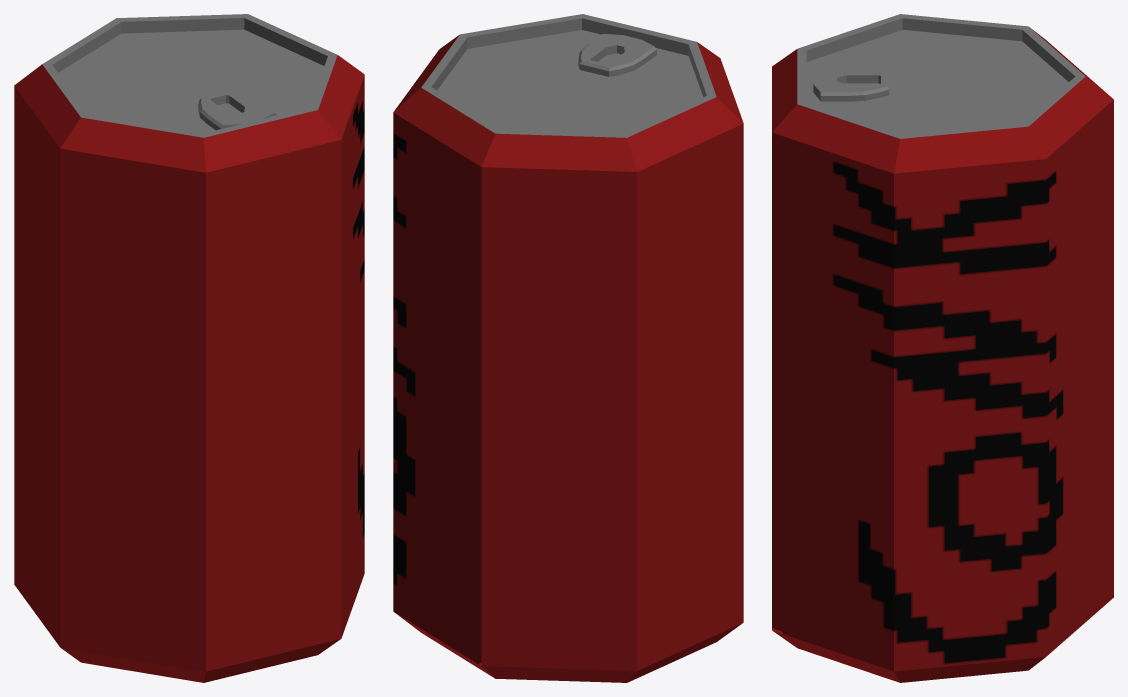
Rendered from soda.fbx.
The picture shows the model from 3 angles, left to right: view 1: azimuth 30°, elevation 25°; view 2: azimuth 150°, elevation 25°; view 3: azimuth 270°, elevation 25°; orthographic projection.
Parts seen in each view (by area): view 1: Sodacan; view 2: Sodacan; view 3: Sodacan.
Part boxes in pixels (left/top/right/bottom): Sodacan: left=14, top=14, right=364, bottom=682; Sodacan: left=393, top=14, right=743, bottom=682; Sodacan: left=772, top=14, right=1113, bottom=682.
Bounding box in the file's own units: 117 × 200 × 114.
